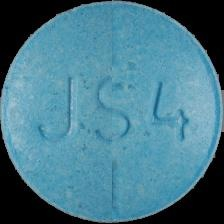58118-1638: (0, 0, 224, 224)
